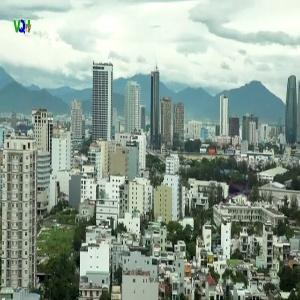drone: (210, 162, 269, 221)
